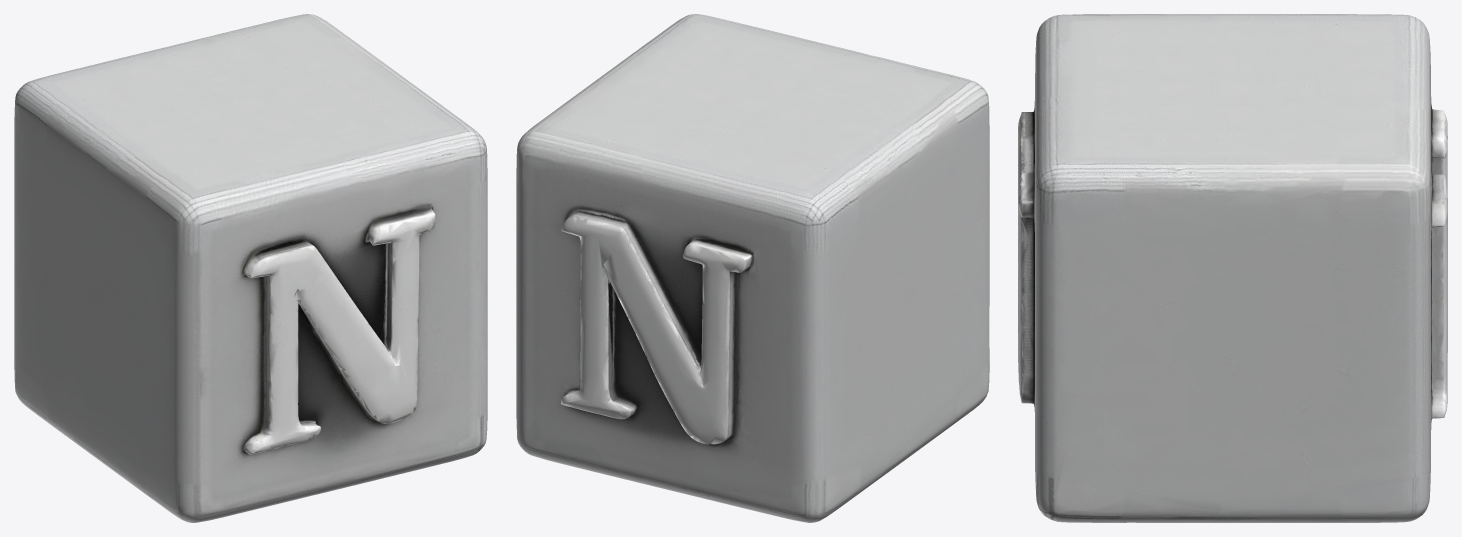
The model's file is notion.glb.
3 renders of one model, left to right at view 1: azimuth 30°, elevation 25°; view 2: azimuth 150°, elevation 25°; view 3: azimuth 270°, elevation 25°, orthographic. The views are drawn at different scales.
Size of the model in its own units: 1.75 by 1.76 by 1.9.
1 material, 1 textured.
